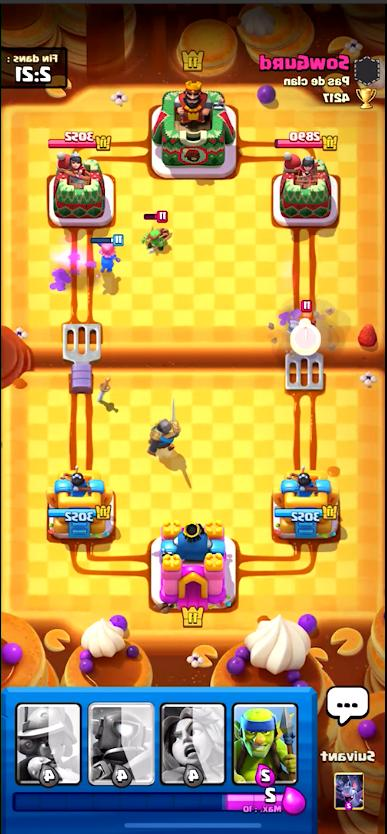chevalier: (145, 400, 179, 461)
gobelin_lances: (142, 211, 170, 253)
valkyrie: (95, 235, 123, 280), (286, 301, 317, 328)
